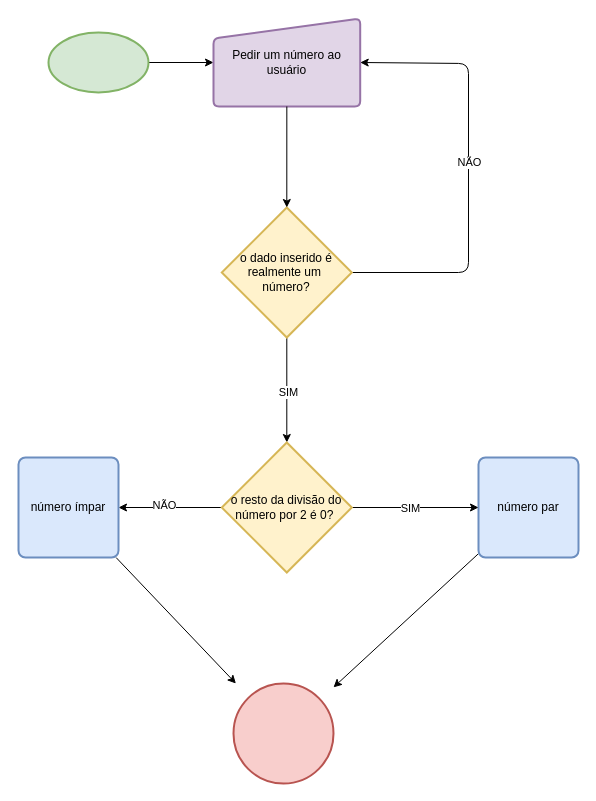
Some shapes in this 596 by 801 pixel diagram are drawn without their labels. Here are the shapes that lost their labels. From the top down, the centre of each, then its label:
At (x=98, y=62): "INÍCIO".
At (x=283, y=733): "FIM".
